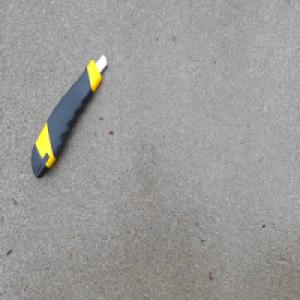Cutter: (30, 55, 108, 181)
